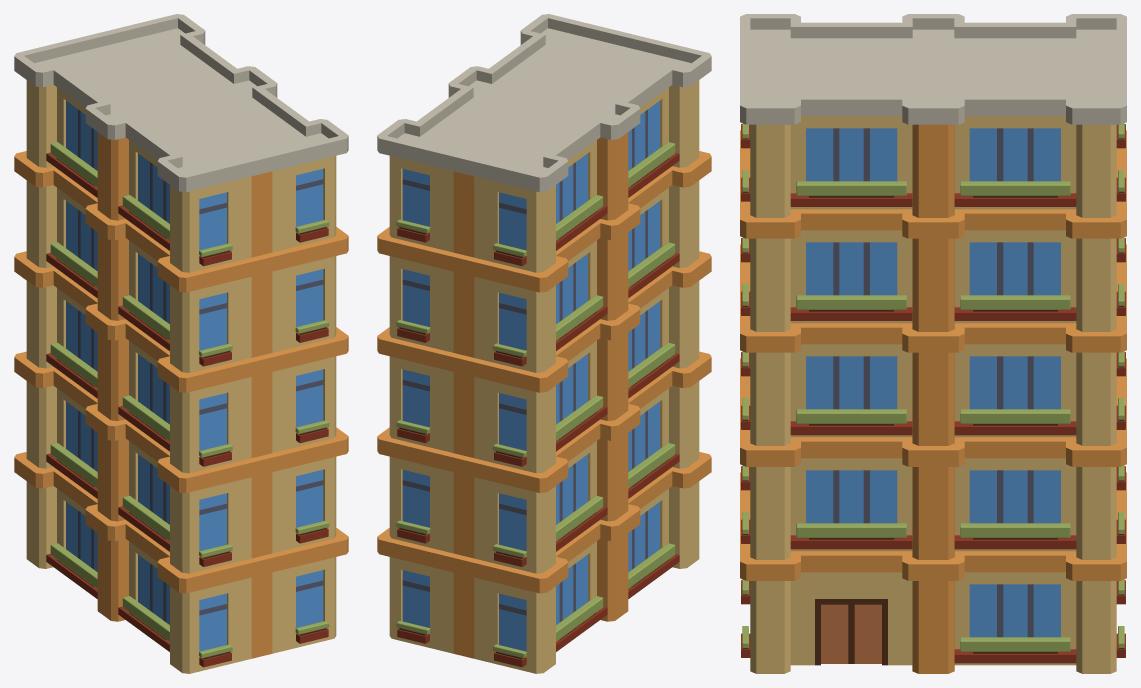
3 views of the same model, side by side, from view 1: azimuth 30°, elevation 25°; view 2: azimuth 150°, elevation 25°; view 3: azimuth 270°, elevation 25° (orthographic). The views are drawn at different scales.
Visible parts, largest first — view 1: Predio 2.002; view 2: Predio 2.002; view 3: Predio 2.002.
Boxes of the visible parts, bbox=[...] form: Predio 2.002: bbox=[14, 14, 348, 673]; Predio 2.002: bbox=[377, 14, 711, 673]; Predio 2.002: bbox=[740, 14, 1126, 673].
Size of the model in its own units: 3541 by 9992 by 6145.
